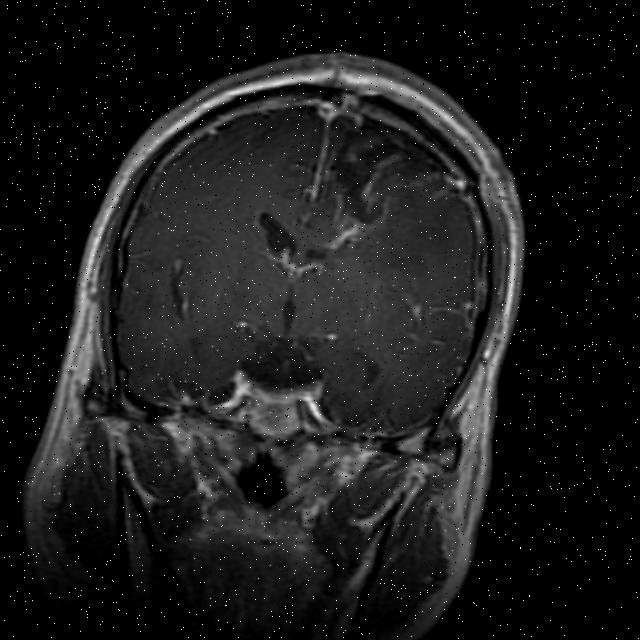Glioma: (318, 126, 410, 236)
Pituitary: (245, 391, 307, 440)
